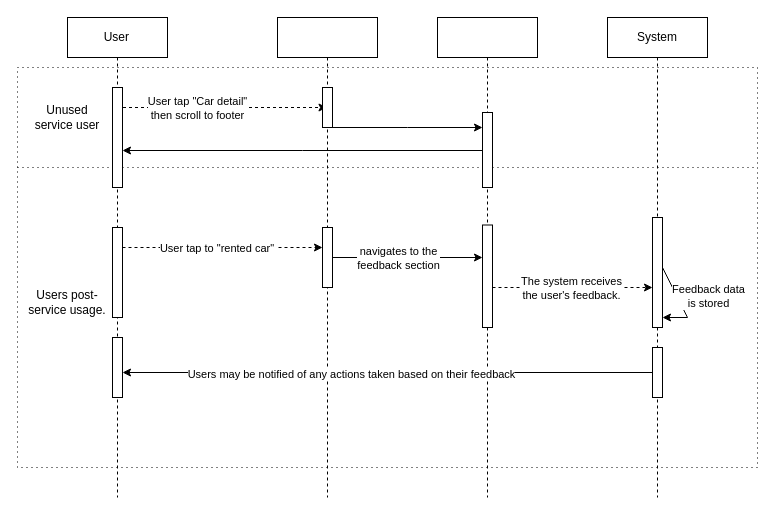
Image size: 783x515. Some labels were removed from this diagram. The shapes that lost their labels are listed below. From the top down, each one's box as (x1, y1, x2, y2) in pixels, then its label:
(276, 16, 378, 498): Car detail Screen
(436, 16, 538, 498): Feedback Screen
